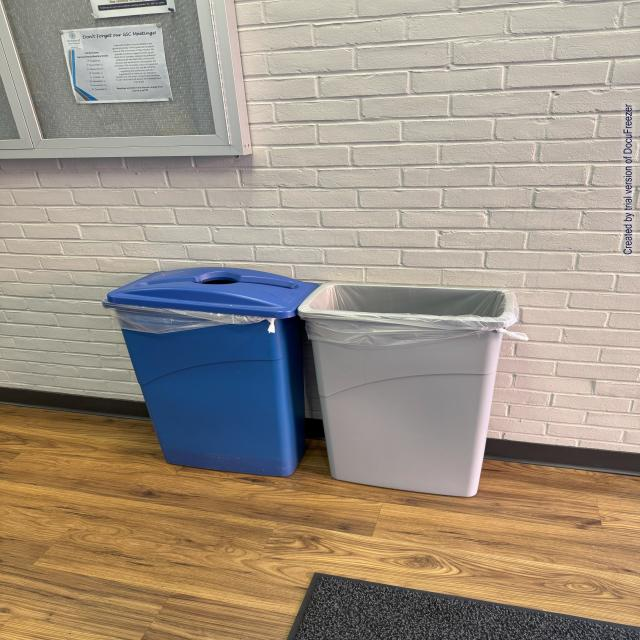Trash bin: (98, 252, 312, 490), (328, 237, 498, 518)
